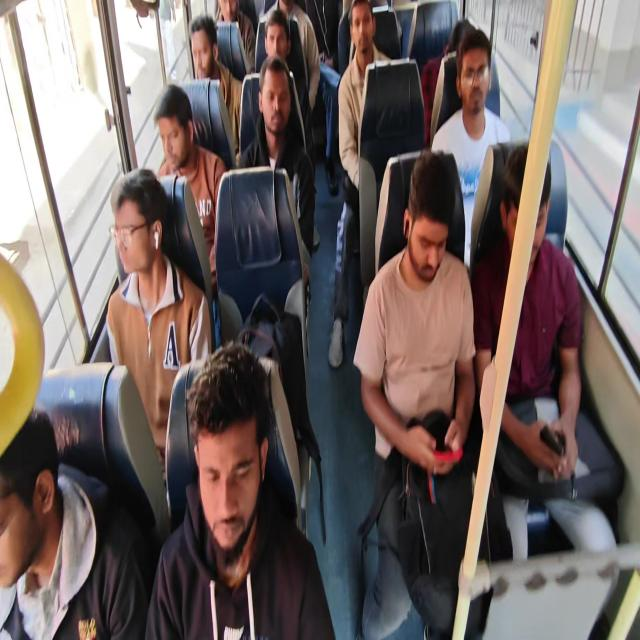person: (170, 303, 284, 589), (15, 391, 116, 612), (398, 150, 490, 302), (515, 139, 583, 308), (109, 160, 194, 288), (235, 63, 285, 151), (134, 90, 189, 164), (460, 40, 500, 125), (221, 0, 259, 57), (190, 21, 227, 76), (358, 2, 390, 60), (258, 13, 292, 63), (452, 14, 483, 66), (341, 0, 382, 32), (274, 0, 298, 22)
